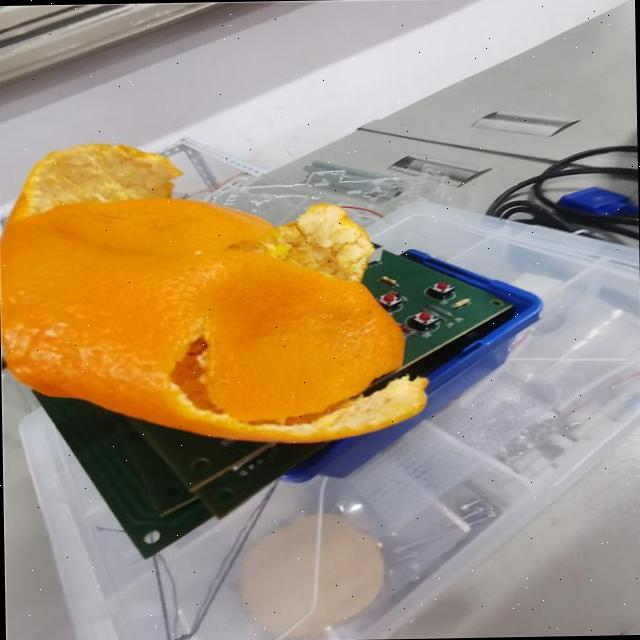orange-peel: (0, 188, 429, 448)
